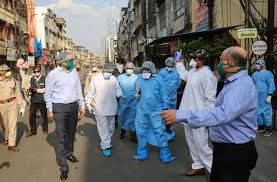mask: (216, 47, 247, 79), (56, 50, 75, 72), (188, 46, 207, 68), (140, 59, 156, 79), (165, 57, 178, 72), (102, 63, 114, 79), (1, 63, 13, 79), (124, 62, 135, 76), (253, 57, 264, 69), (32, 65, 41, 77)
